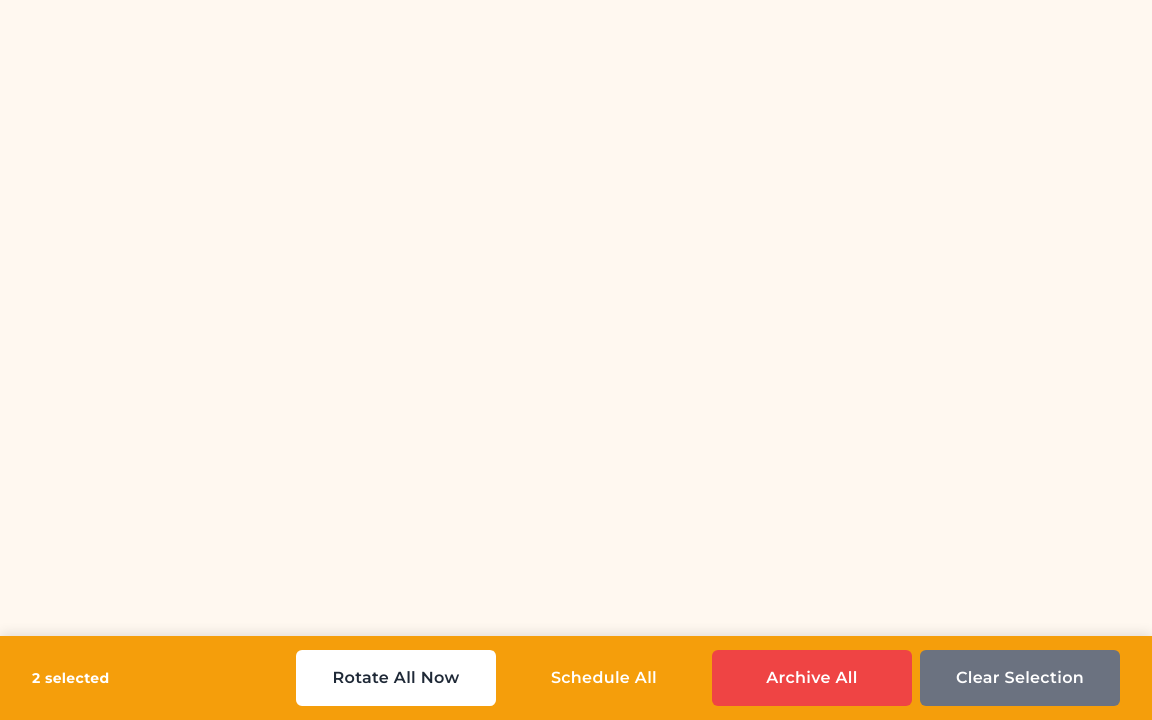
Test: BulkRotationActions › dismisses confirm dialog when Cancel is clicked
Click the button "Rotate All Now": point(396, 678) [296,650,496,706]
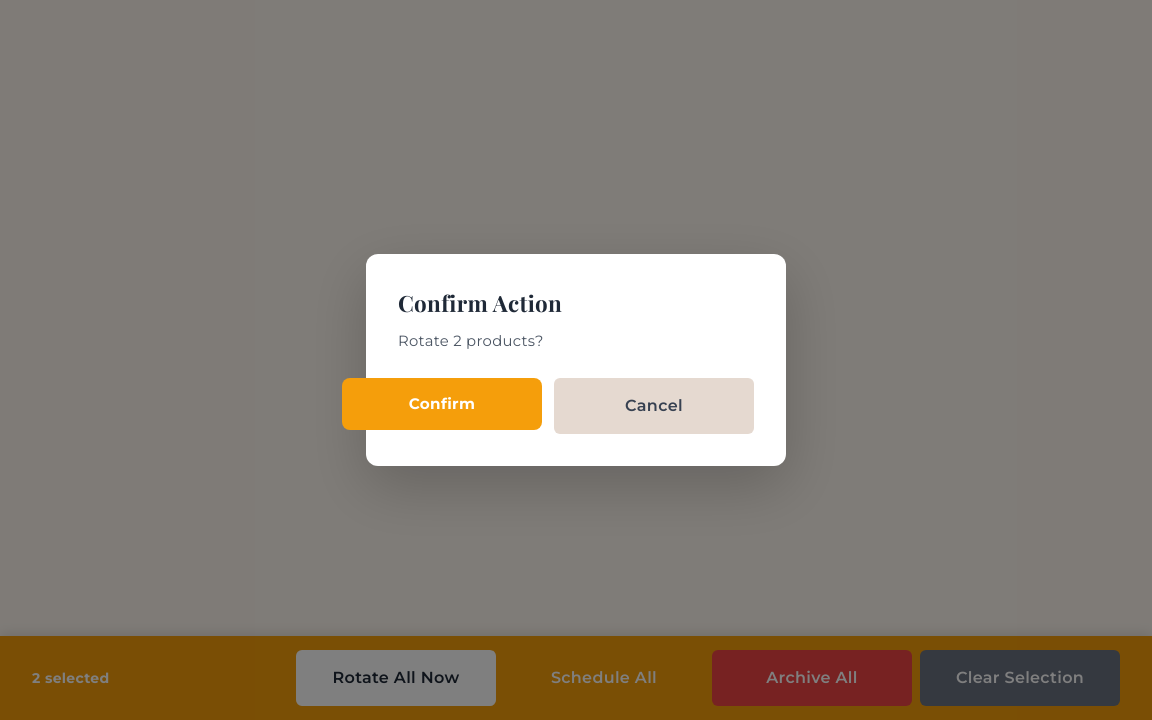
Click the button "Cancel": point(654, 406) [554,378,754,434]
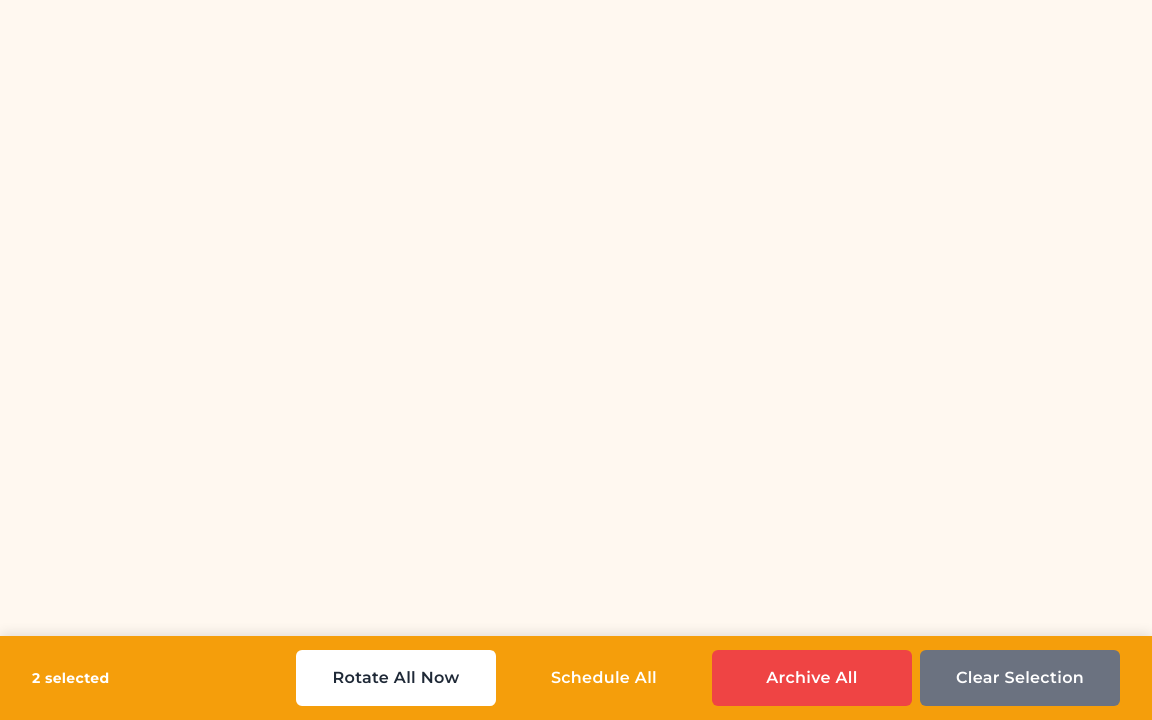
Expected: the heading "Confirm Action" is gone
